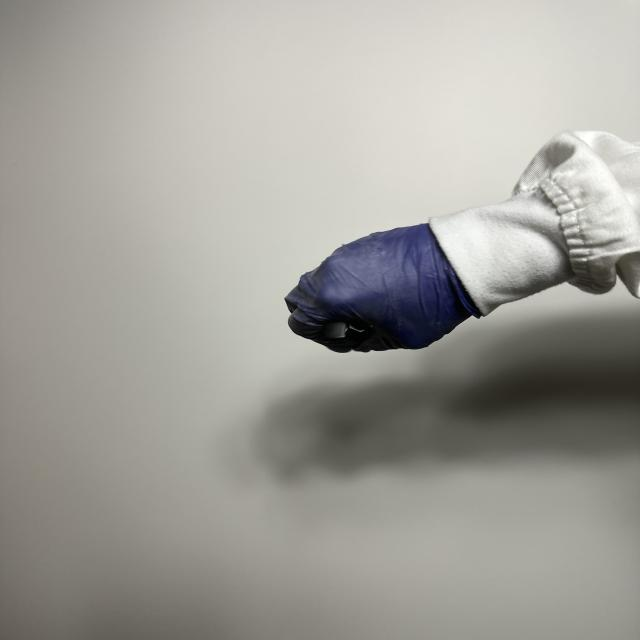gloves_contaminated: (285, 224, 480, 352)
